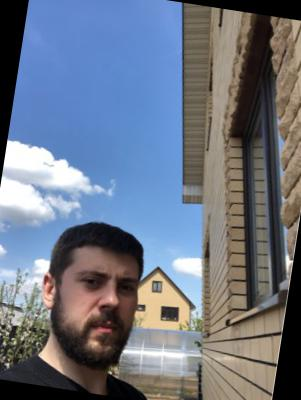without_mask: (60, 259, 143, 372)
